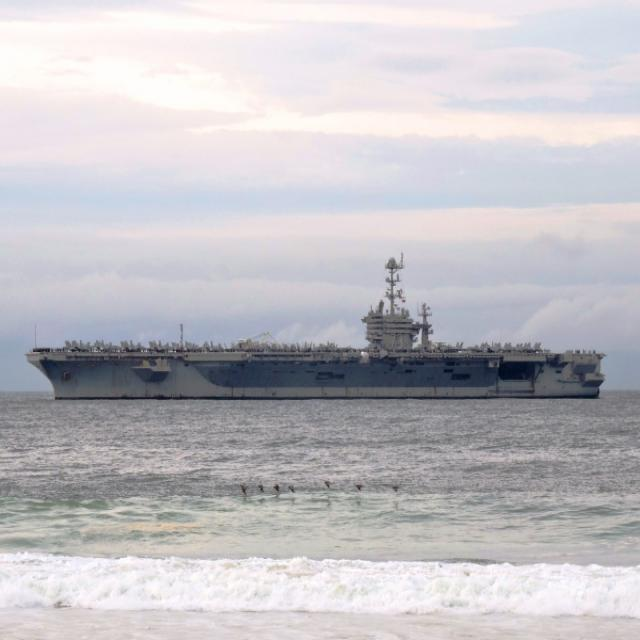Portanaves: (25, 226, 615, 407)
